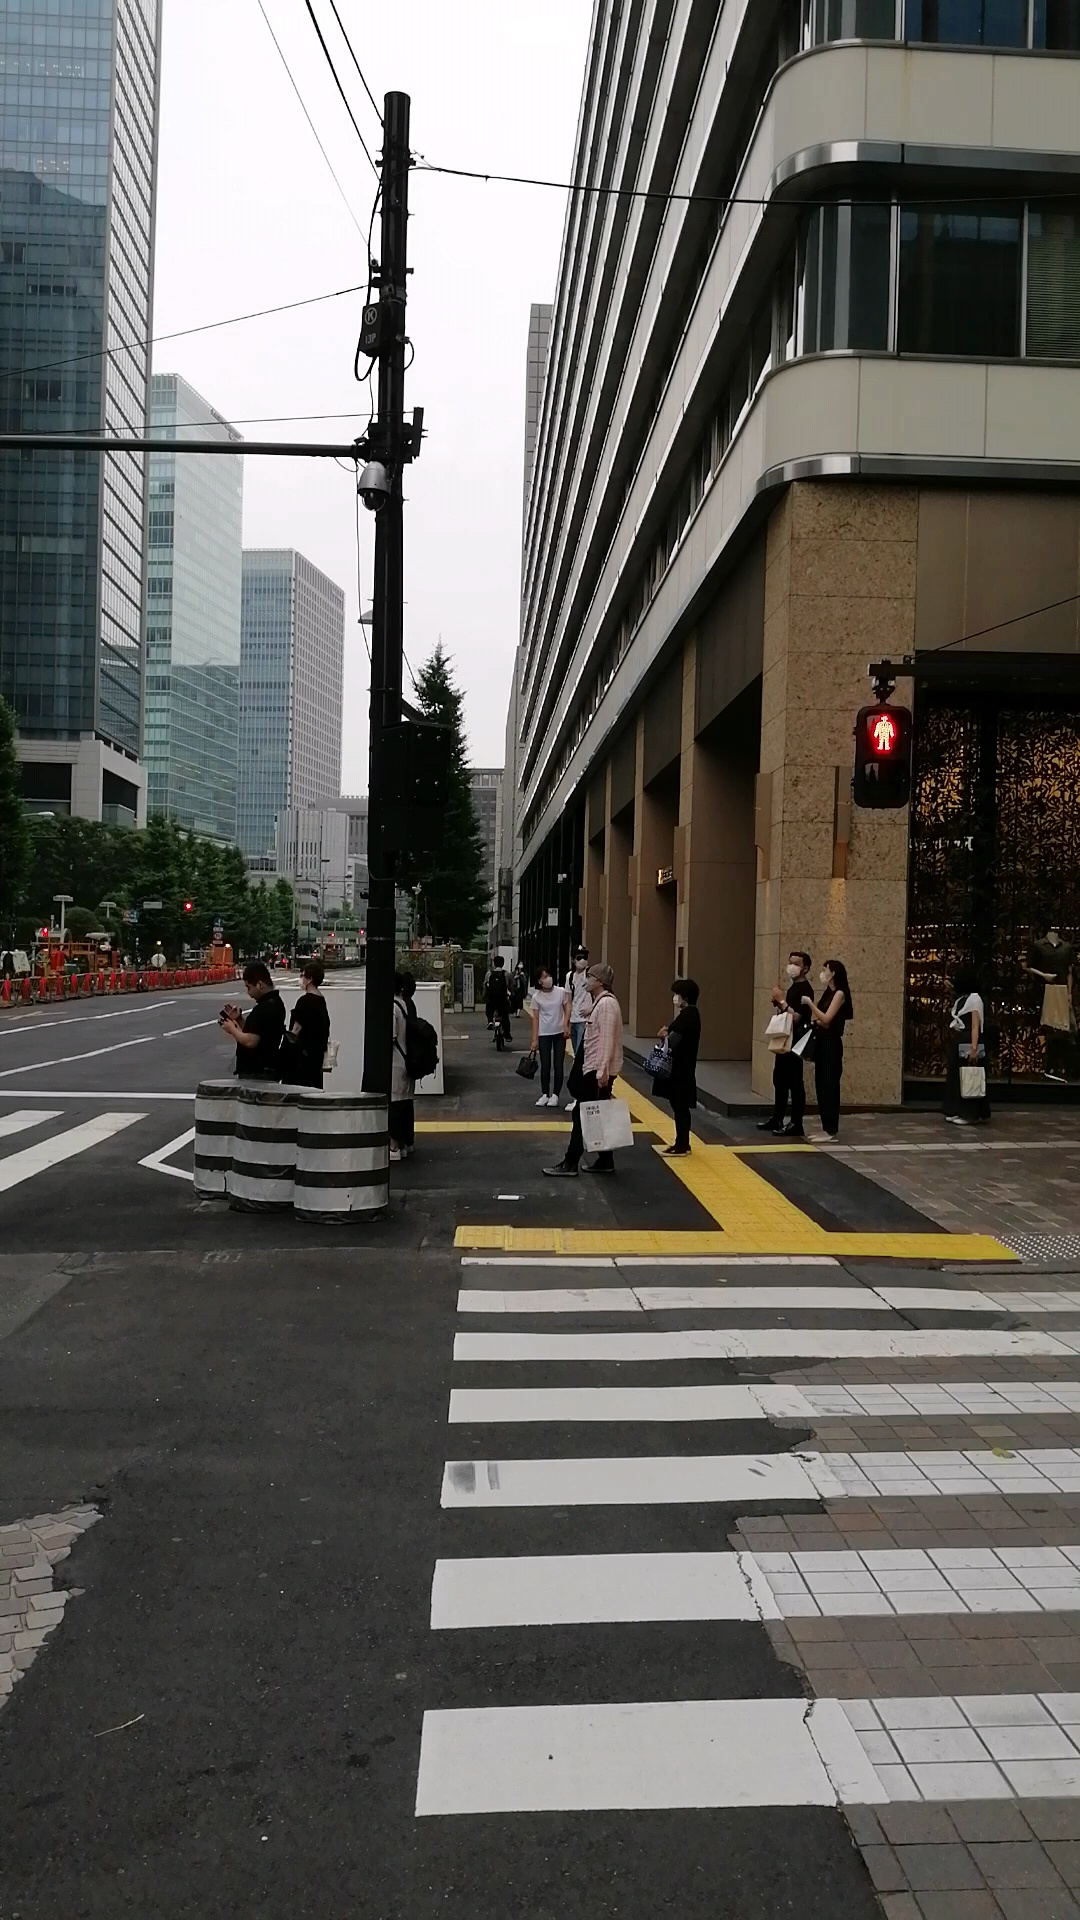red: (852, 702, 913, 808)
